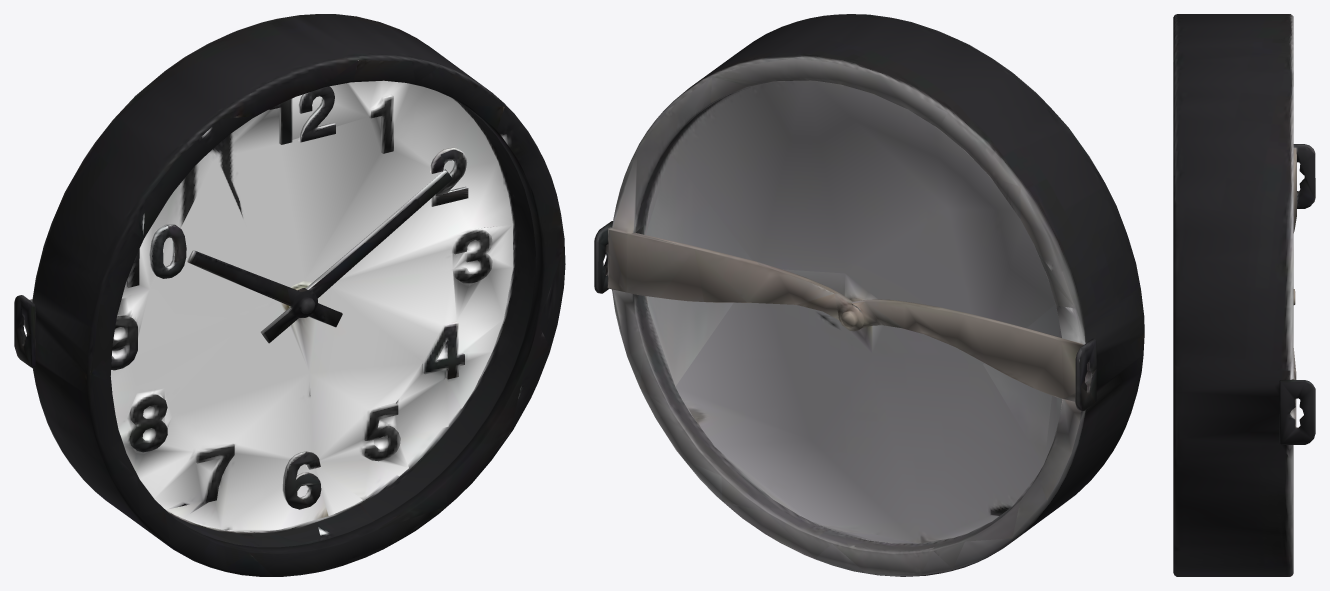
File: clock.glb
3 views of the same model, side by side, from view 1: azimuth 30°, elevation 25°; view 2: azimuth 150°, elevation 25°; view 3: azimuth 270°, elevation 25° (orthographic).
Parts seen in each view (by area): view 1: mesh_node; view 2: mesh_node; view 3: mesh_node.
Boxes of the visible parts, <box> form: mesh_node: <box>14,14,565,576</box>; mesh_node: <box>594,14,1144,576</box>; mesh_node: <box>1173,14,1315,576</box>.
Size of the model in its own units: 0.2525 by 0.2522 by 0.0638.
1 material, 1 textured.
